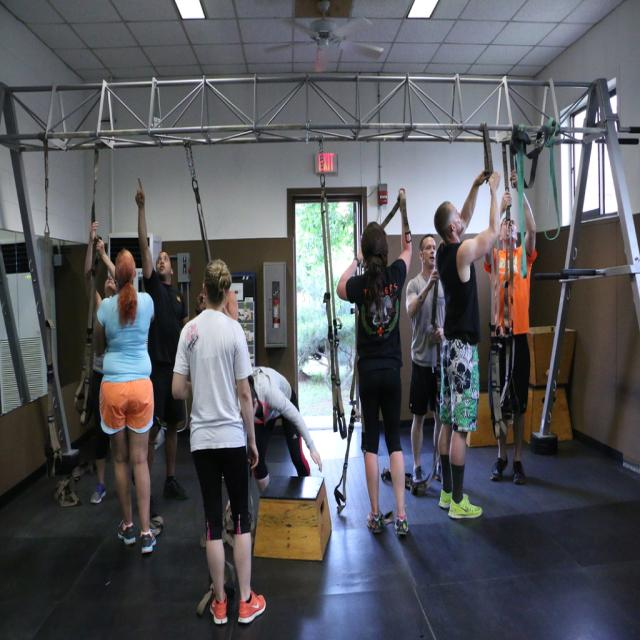Person: (85, 170, 537, 624)
